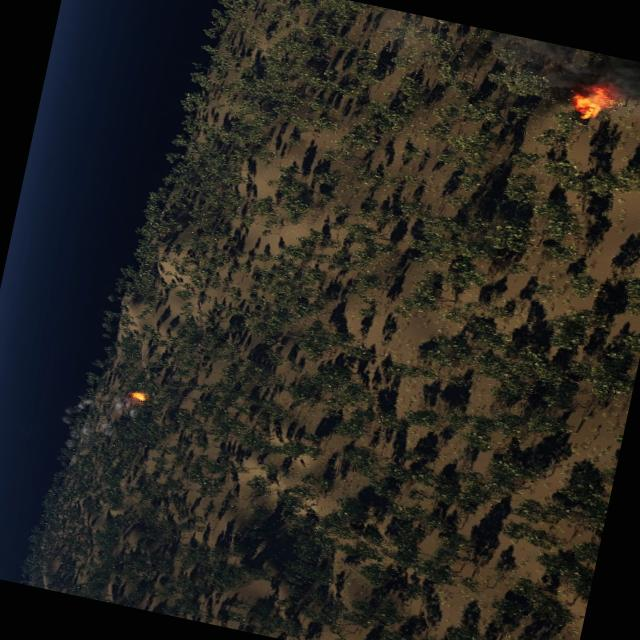fire: (568, 79, 618, 123), (129, 388, 147, 402)
smoke: (517, 36, 640, 110), (58, 382, 136, 438)
